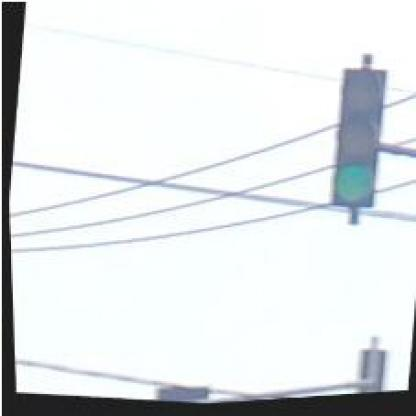green: (326, 69, 390, 214)
